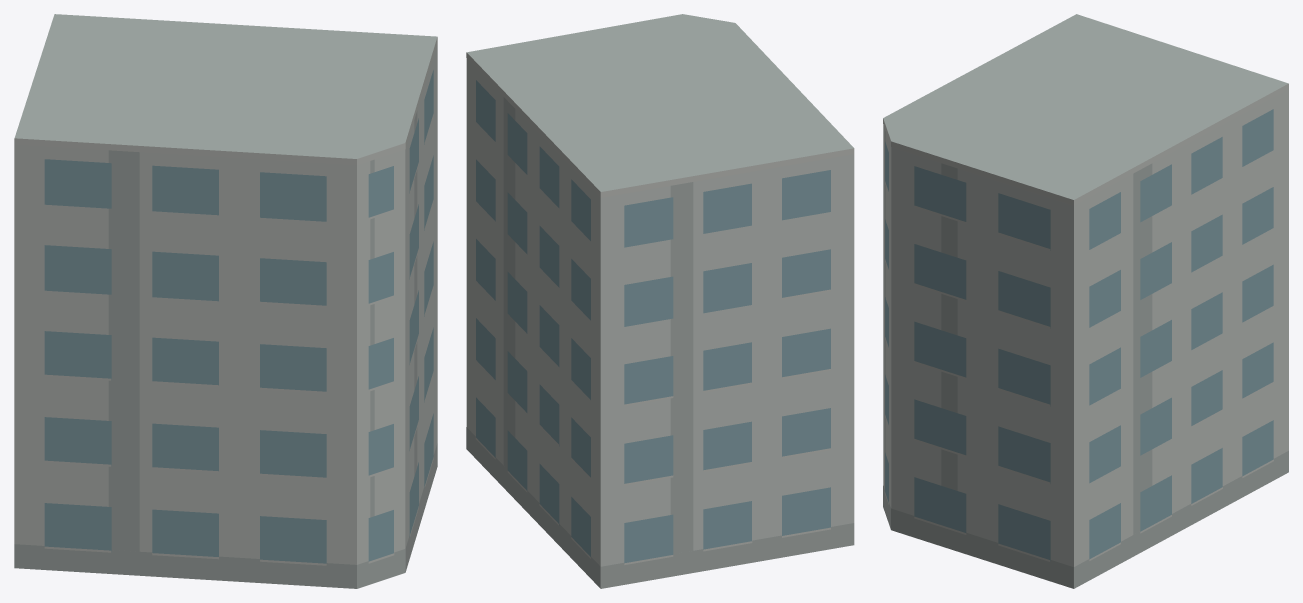
File: survey-upis-32949364.glb
The picture shows the model from 3 angles, left to right: view 1: azimuth 30°, elevation 25°; view 2: azimuth 150°, elevation 25°; view 3: azimuth 270°, elevation 25°; orthographic projection. The views are drawn at different scales.
Parts seen in each view (by area): view 1: survey-upis-32949364.tmp; view 2: survey-upis-32949364.tmp; view 3: survey-upis-32949364.tmp.
Part boxes in pixels (x1,y1,x2,y2): survey-upis-32949364.tmp: (14, 14, 437, 588); survey-upis-32949364.tmp: (466, 14, 854, 588); survey-upis-32949364.tmp: (883, 14, 1288, 588).
Bounding box in the file's own units: 17.04 × 16.6 × 15.71.
